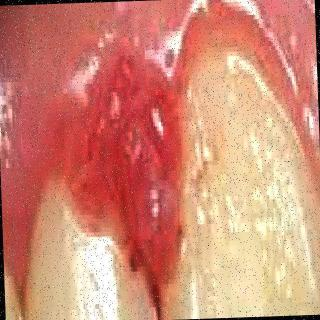Gum Swelling: (0, 1, 318, 307)
